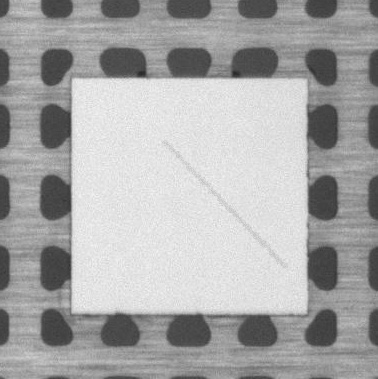DIE_CRACK: (164, 141, 284, 267)
